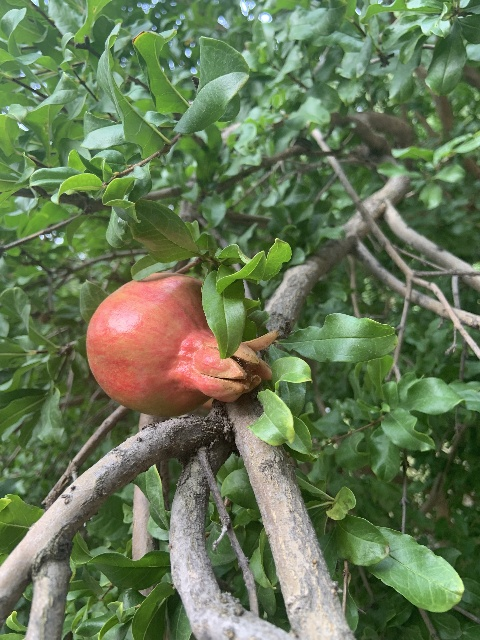ripe: (85, 273, 278, 416)
